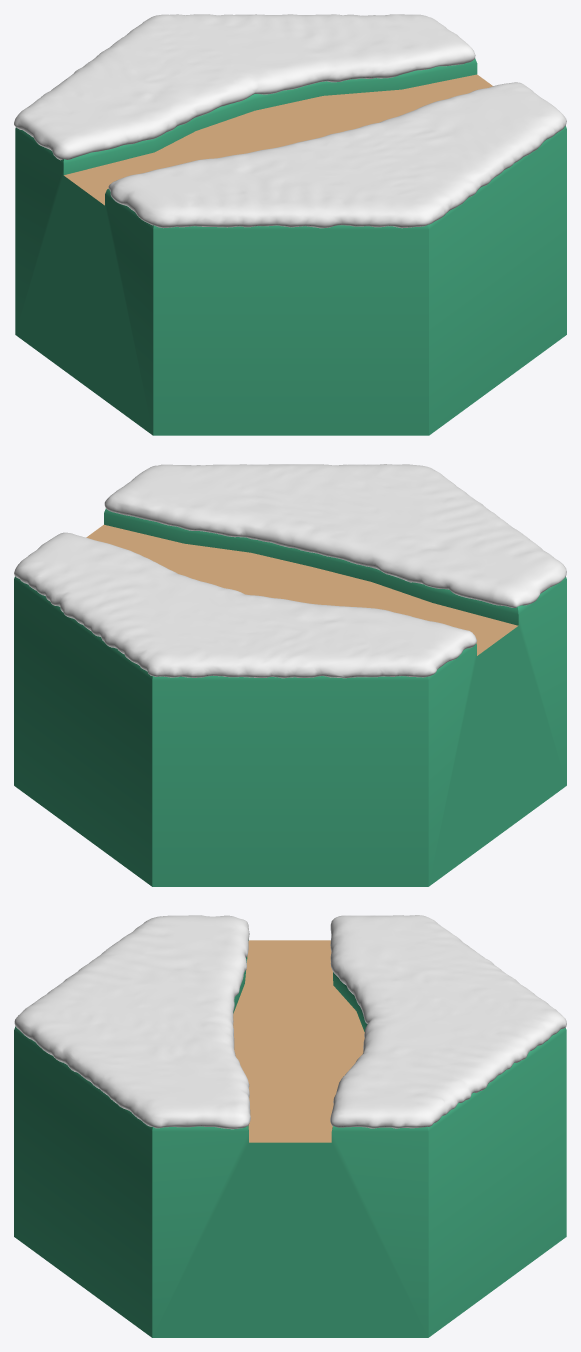
File: snow_hex_forest_roadB.fbx
3 views of the same model, one above another, from view 1: azimuth 30°, elevation 25°; view 2: azimuth 150°, elevation 25°; view 3: azimuth 270°, elevation 25° (orthographic).
Parts seen in each view (by area): view 1: hex_forest_roadB.001, SnowBall.001, hex_forest_roadB; view 2: hex_forest_roadB.001, SnowBall.001, hex_forest_roadB; view 3: hex_forest_roadB.001, SnowBall.001, hex_forest_roadB.
Part boxes in pixels (x1,y1,x2,y2): hex_forest_roadB.001: [15, 58, 566, 435]; SnowBall.001: [14, 14, 566, 228]; hex_forest_roadB: [64, 74, 492, 205]; hex_forest_roadB.001: [14, 508, 566, 886]; SnowBall.001: [14, 464, 566, 678]; hex_forest_roadB: [86, 524, 518, 655]; hex_forest_roadB.001: [14, 940, 566, 1337]; SnowBall.001: [14, 915, 566, 1129]; hex_forest_roadB: [233, 940, 364, 1142].
Size of the model in its own units: 204 by 104 by 231.
